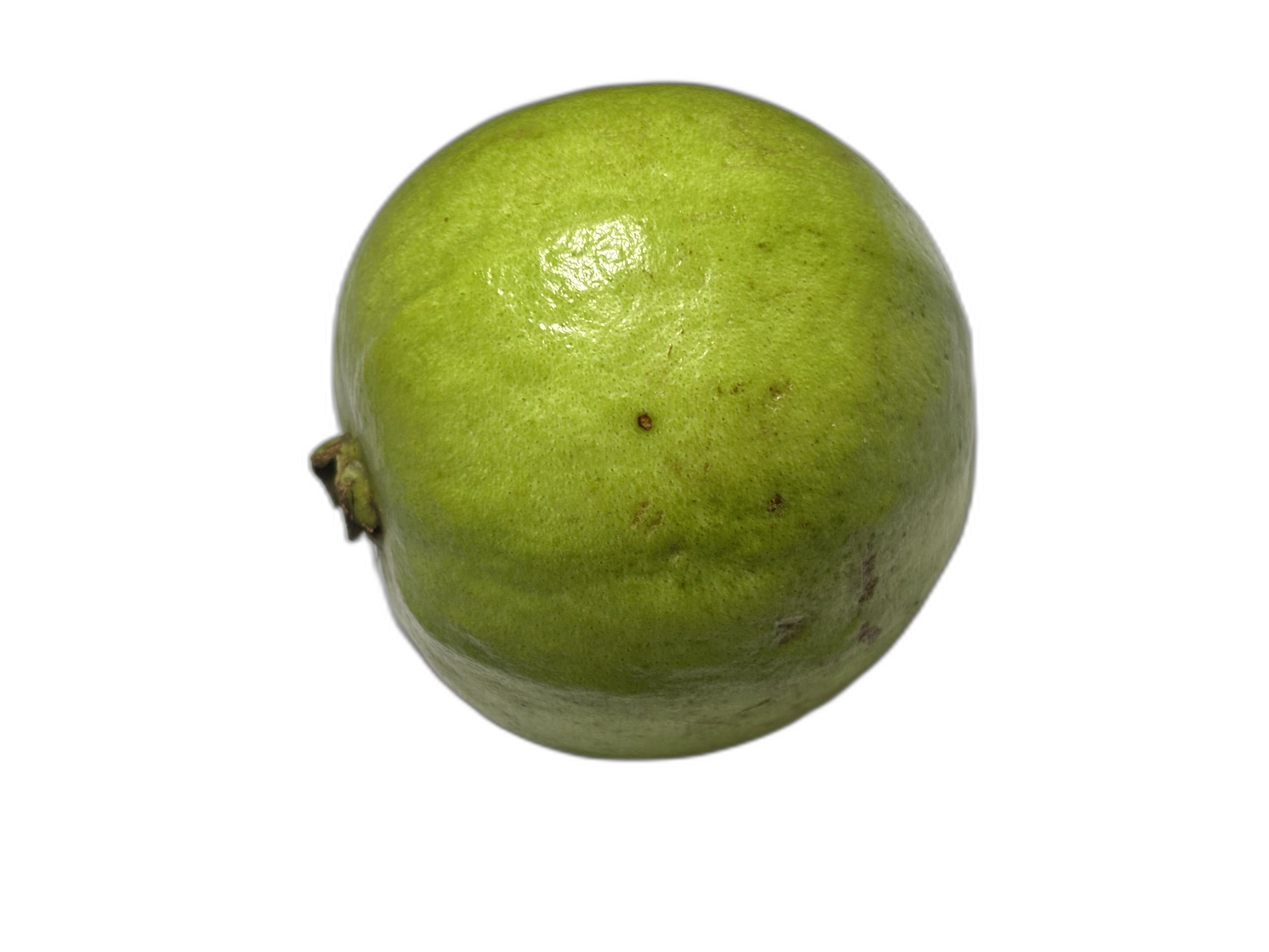guava: (0, 96, 1128, 952)
